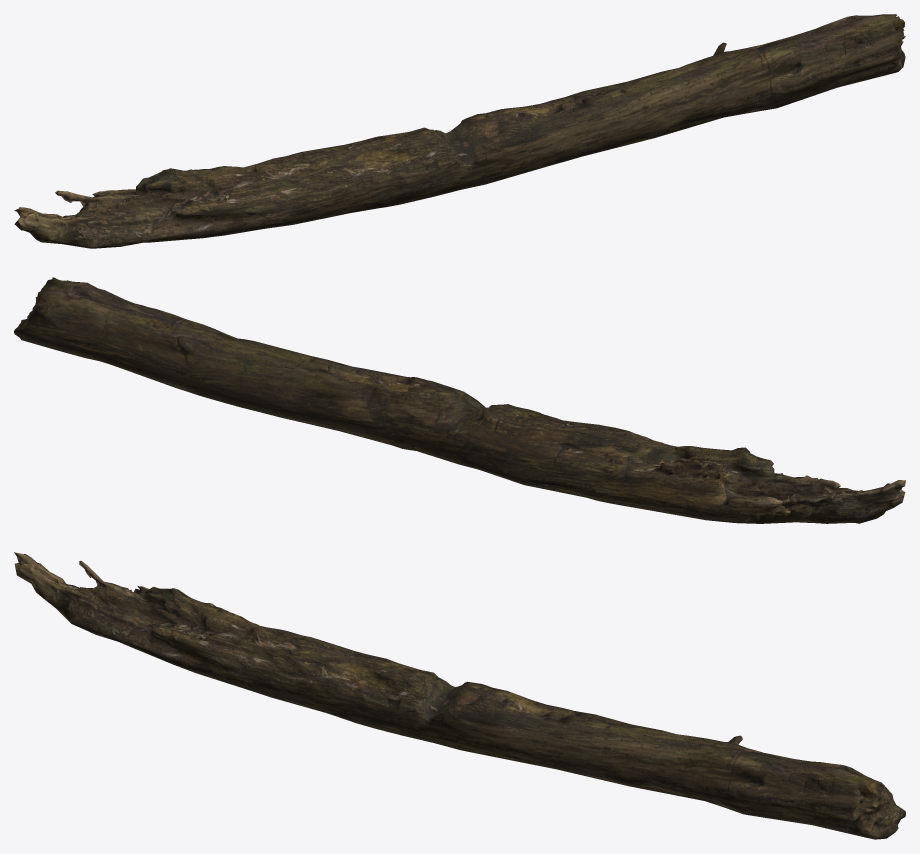
Rendered from dead_tree_trunk.glb.
The picture shows the model from 3 angles, top to bottom: view 1: azimuth 30°, elevation 25°; view 2: azimuth 150°, elevation 25°; view 3: azimuth 330°, elevation 25°; orthographic projection.
Parts seen in each view (by area): view 1: dead_tree_trunk; view 2: dead_tree_trunk; view 3: dead_tree_trunk.
Boxes of the visible parts, bbox=[...] form: dead_tree_trunk: bbox=[14, 14, 905, 248]; dead_tree_trunk: bbox=[14, 277, 905, 523]; dead_tree_trunk: bbox=[14, 552, 905, 839].
Size of the model in its own units: 3.05 by 0.2875 by 0.2773.
Materials: 1 (1 with a texture image).
